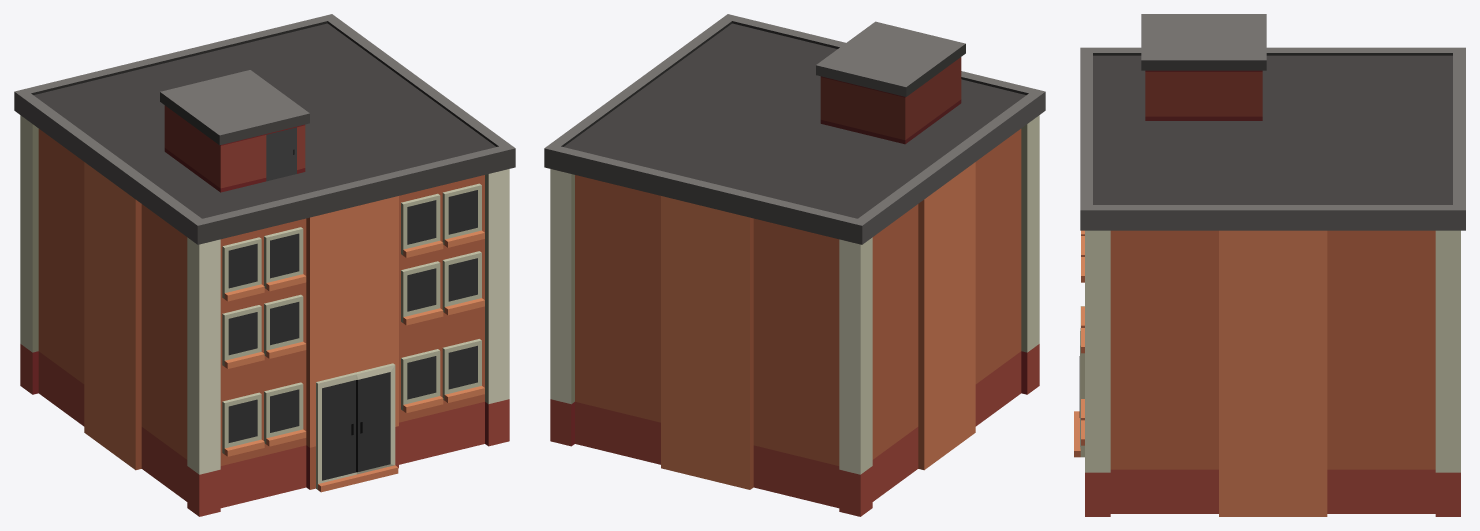
File: apartment_small.obj
3 views of the same model, side by side, from view 1: azimuth 30°, elevation 25°; view 2: azimuth 150°, elevation 25°; view 3: azimuth 270°, elevation 25° (orthographic). The views are drawn at different scales.
Parts seen in each view (by area): view 1: ST_Building_Apartment_Small_Untitled.005; view 2: ST_Building_Apartment_Small_Untitled.005; view 3: ST_Building_Apartment_Small_Untitled.005.
Part boxes in pixels (x1,y1,x2,y2): ST_Building_Apartment_Small_Untitled.005: (14,14,515,516); ST_Building_Apartment_Small_Untitled.005: (544,14,1045,516); ST_Building_Apartment_Small_Untitled.005: (1074,14,1465,516).
Bounding box in the file's own units: 11.63 × 12.26 × 11.82.
1 material, 1 textured.
